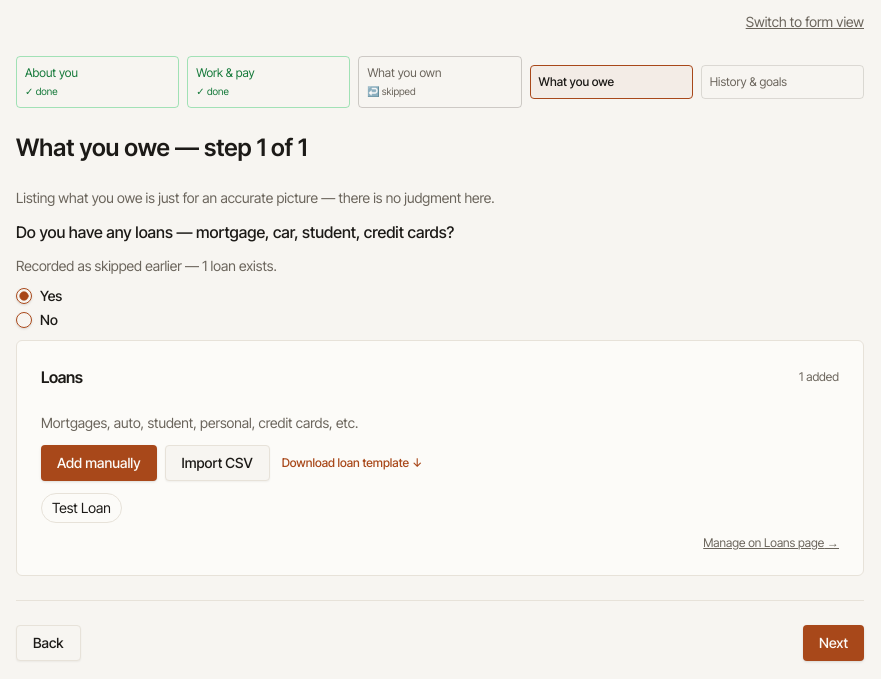
FlowShell › M3: data forces yes — Next over rows never records a skip, even with a literal no on file
Expected: the heading "What you owe — step 1 of 1" is shown, [16, 133, 307, 162]
Do NOT touch the radio — submit as-is.
Click the button "Next" at (834, 643), box [803, 625, 864, 661]
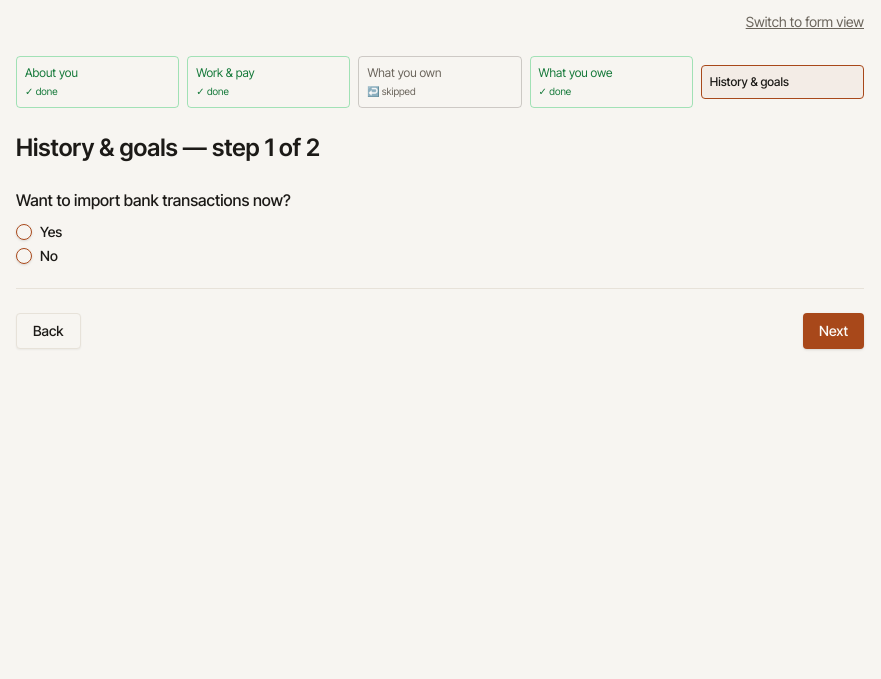
Now the heading "History & goals — step 1 of 2" is shown, box [16, 133, 320, 162]
